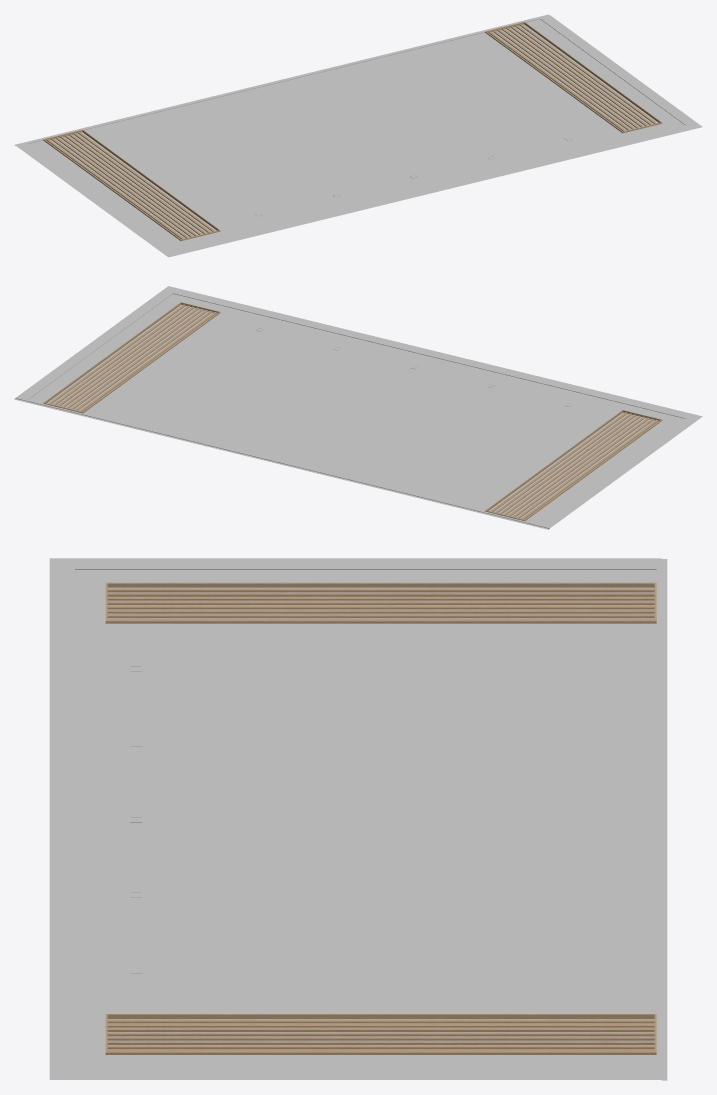
3 renders of one model, top to bottom at view 1: azimuth 30°, elevation 25°; view 2: azimuth 150°, elevation 25°; view 3: azimuth 270°, elevation 25°, orthographic. The views are drawn at different scales.
Parts seen in each view (by area): view 1: M_C_301_a_24x12; view 2: M_C_301_a_24x12; view 3: M_C_301_a_24x12.
Boxes of the visible parts, x1,y1,x2,y2 form: M_C_301_a_24x12: [14, 14, 702, 257]; M_C_301_a_24x12: [14, 286, 702, 529]; M_C_301_a_24x12: [49, 558, 667, 1080].
Size of the model in its own units: 24.2 by 0.11 by 12.11.
